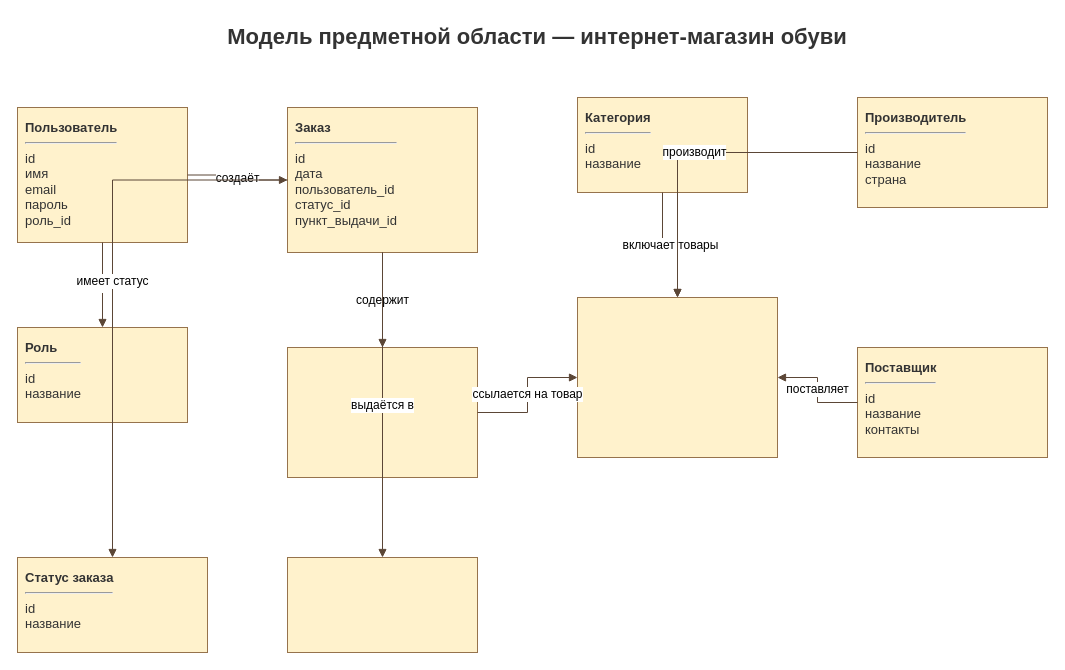
Some shapes in this 1065 by 670 pixel diagram are drawn without their labels. Each missing label, with the box of its shape:
Пункт выдачи id адрес: (286, 556, 478, 652)
Строка заказа id заказ_id товар_id количество цена: (286, 346, 478, 478)
Товар id название цена категория_id производитель_id поставщик_id: (576, 296, 778, 458)
